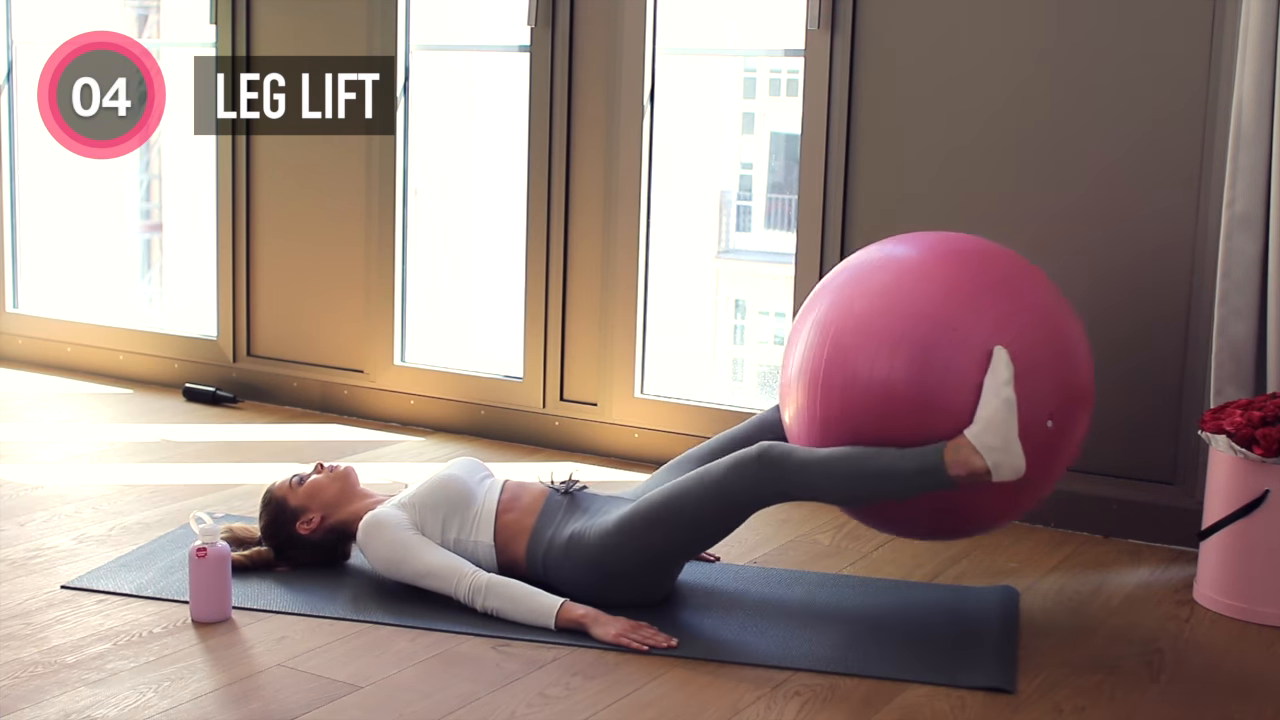yogaball: (773, 225, 1106, 551)
